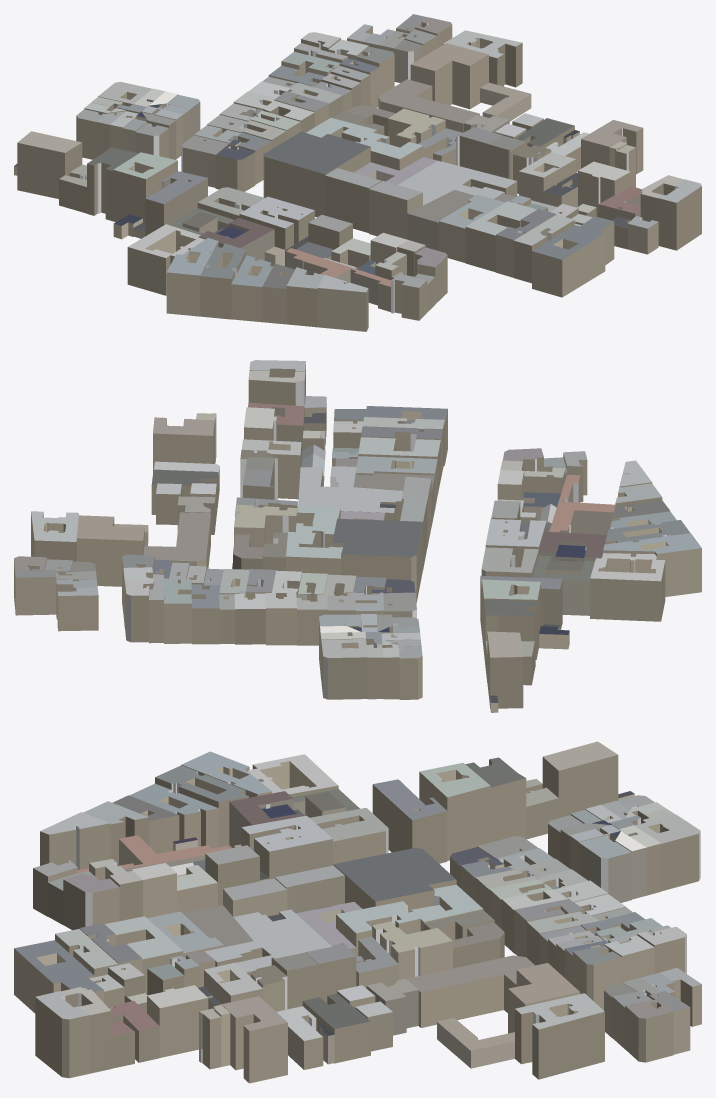
3 views of the same model, one above another, from view 1: azimuth 30°, elevation 25°; view 2: azimuth 150°, elevation 25°; view 3: azimuth 270°, elevation 25° (orthographic). The views are drawn at different scales.
Parts seen in each view (by area): view 1: tuile; view 2: tuile; view 3: tuile.
Part boxes in pixels (x1,y1,x2,y2): tuile: [14, 14, 701, 331]; tuile: [14, 360, 701, 712]; tuile: [14, 741, 701, 1083].
Bounding box in the file's own units: 278 × 31.94 × 273.
